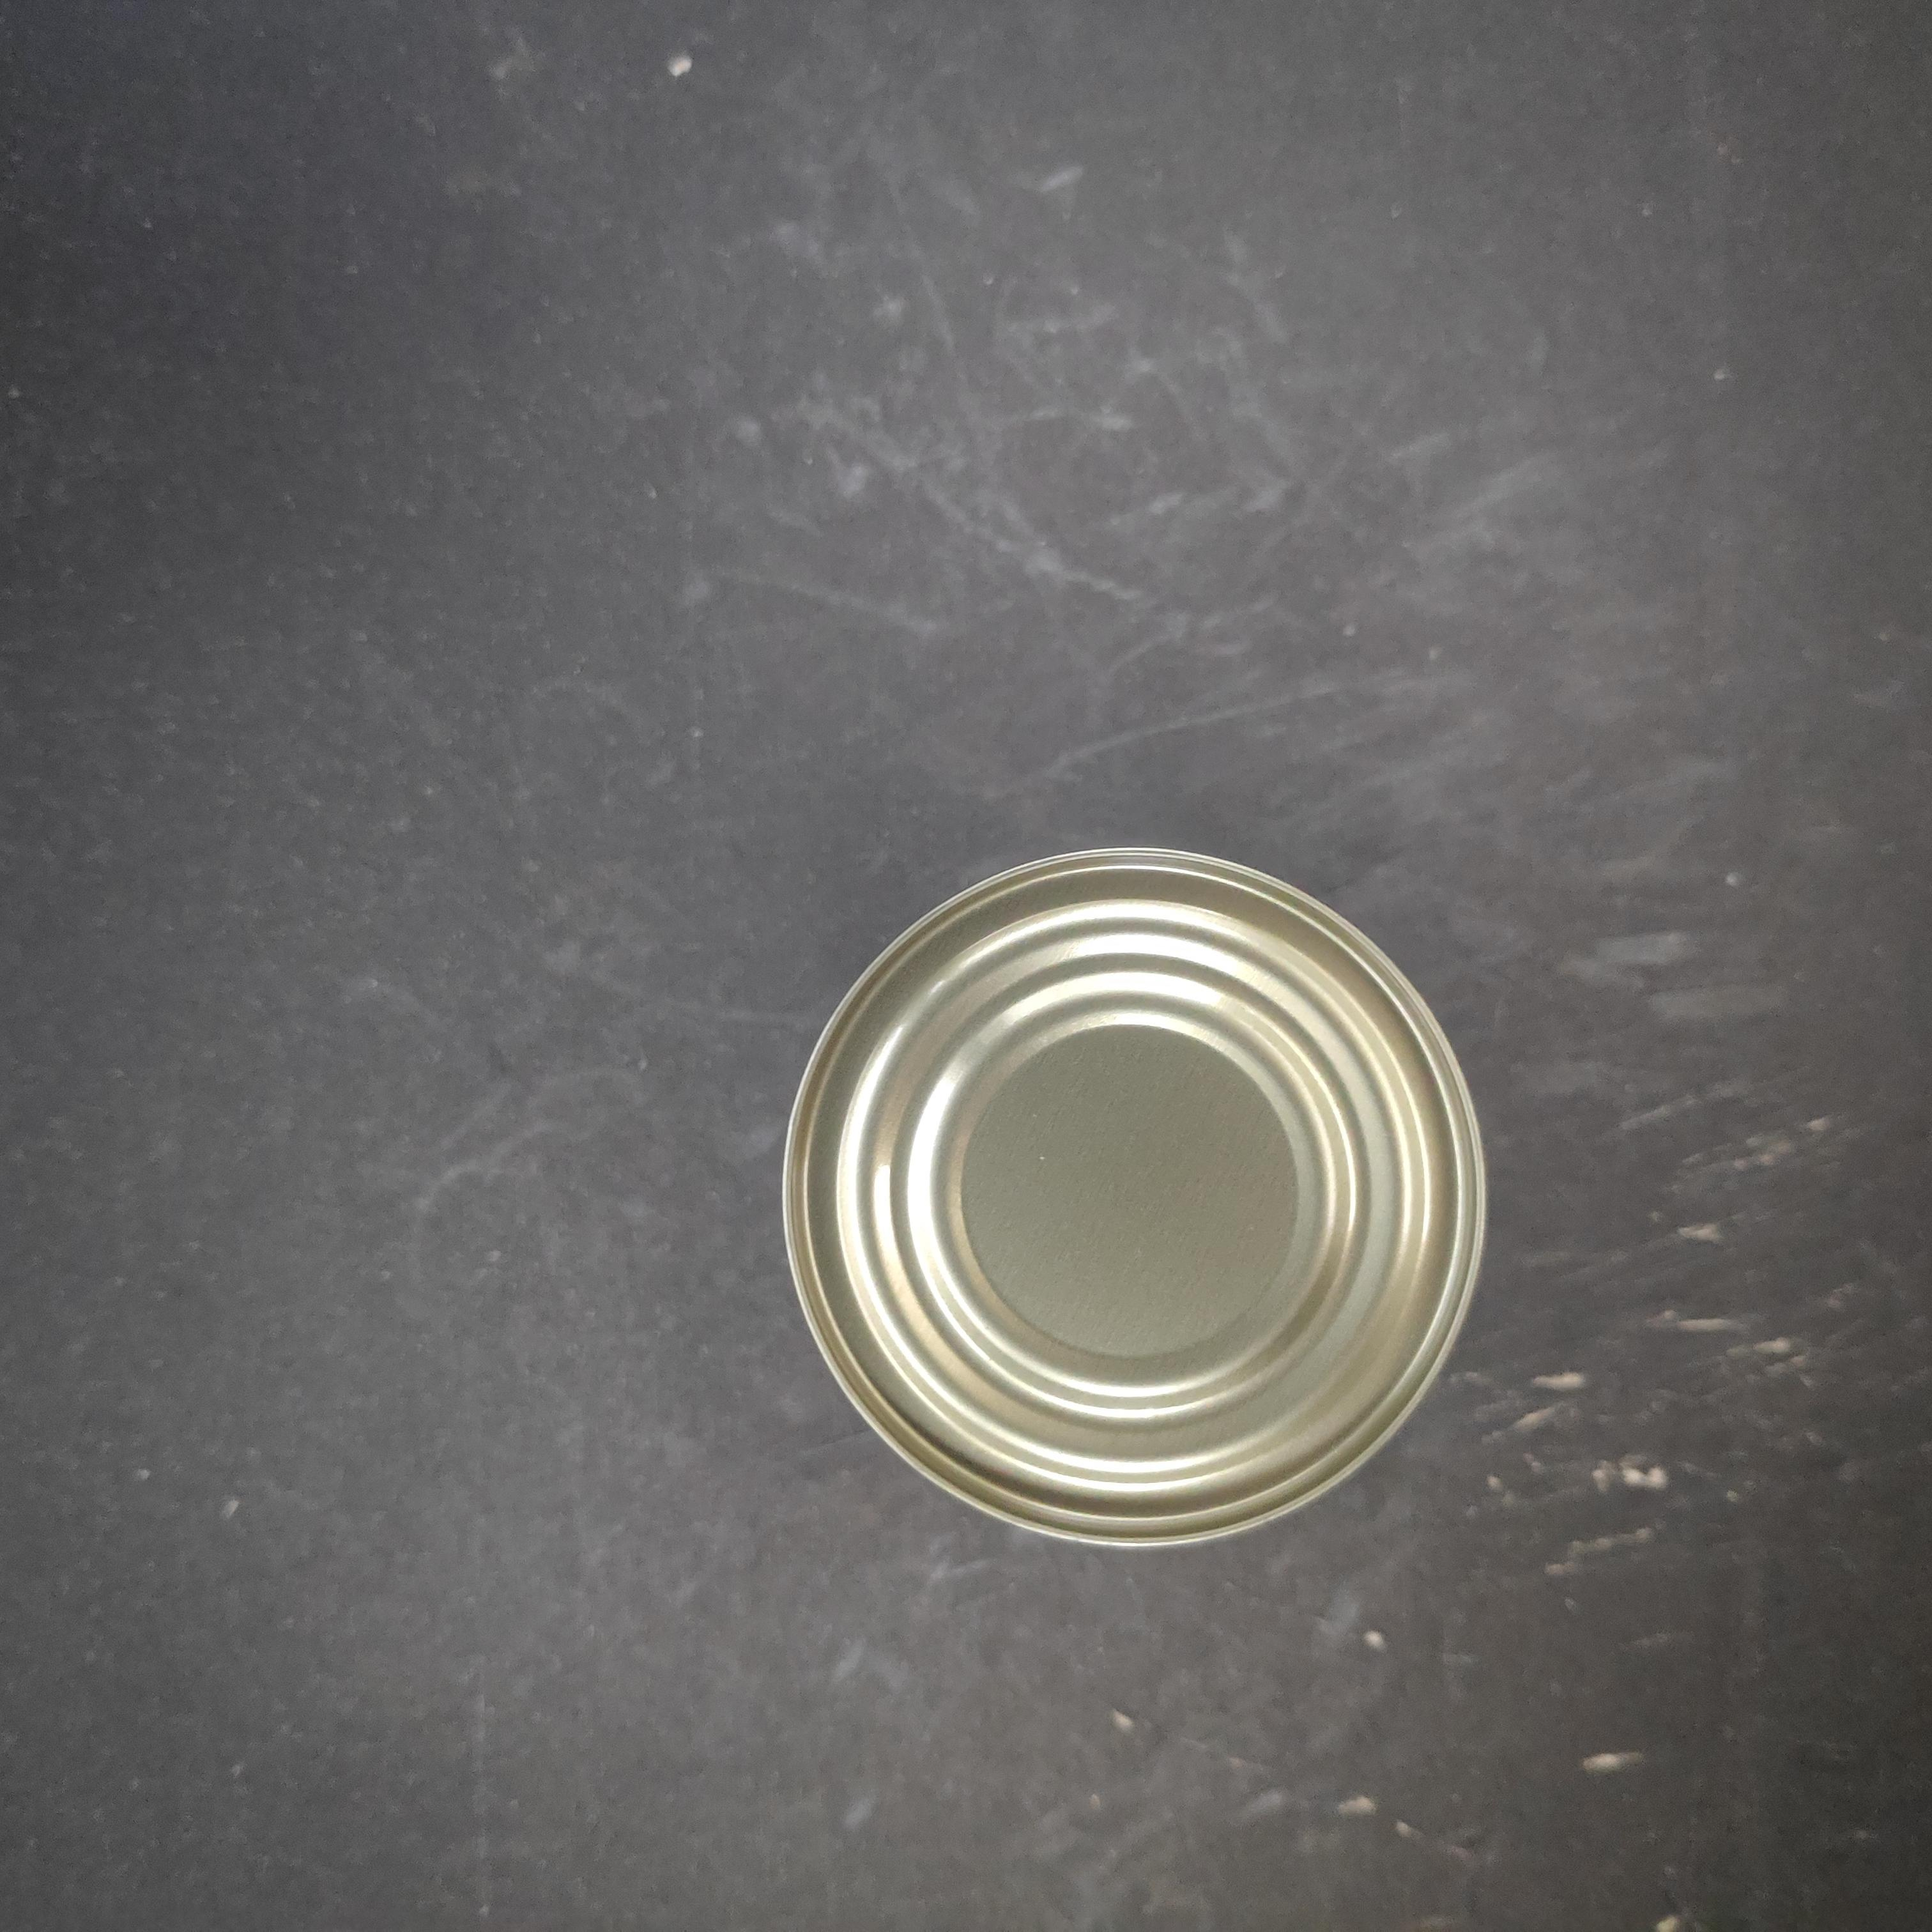No defect: (832, 435, 1566, 1168)
